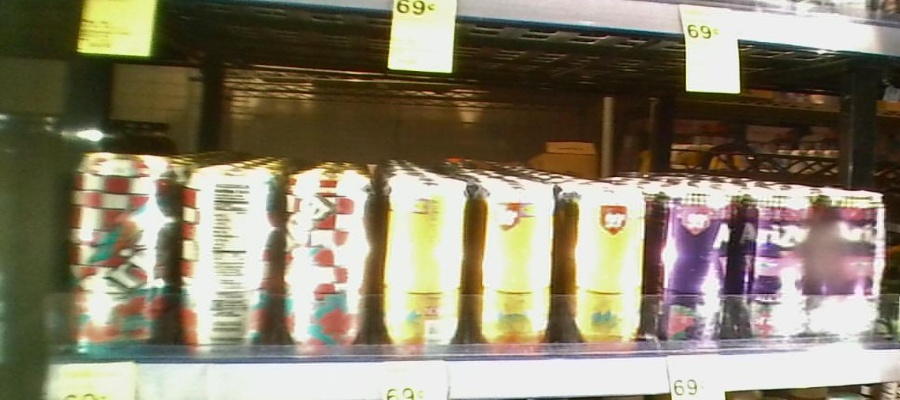bottle: (64, 145, 179, 351), (180, 156, 278, 356), (280, 157, 375, 356), (469, 163, 562, 353), (378, 160, 464, 357), (651, 163, 732, 349), (566, 172, 647, 353), (815, 164, 890, 350), (738, 167, 811, 347)
